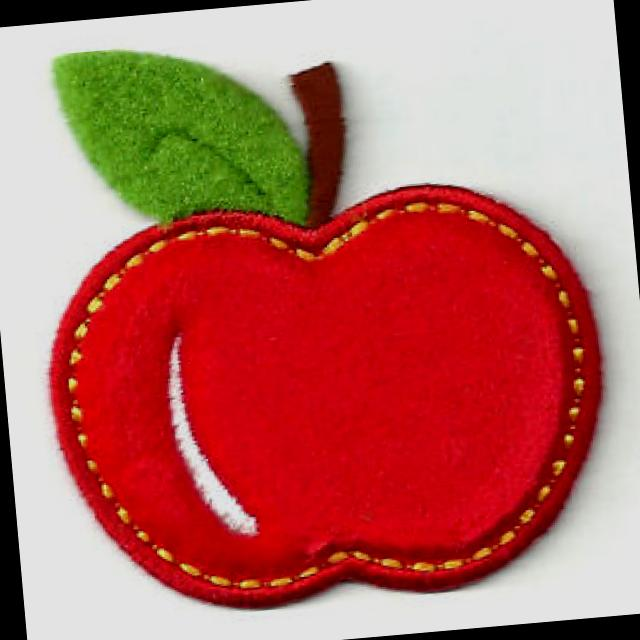apple: (29, 159, 632, 640)
